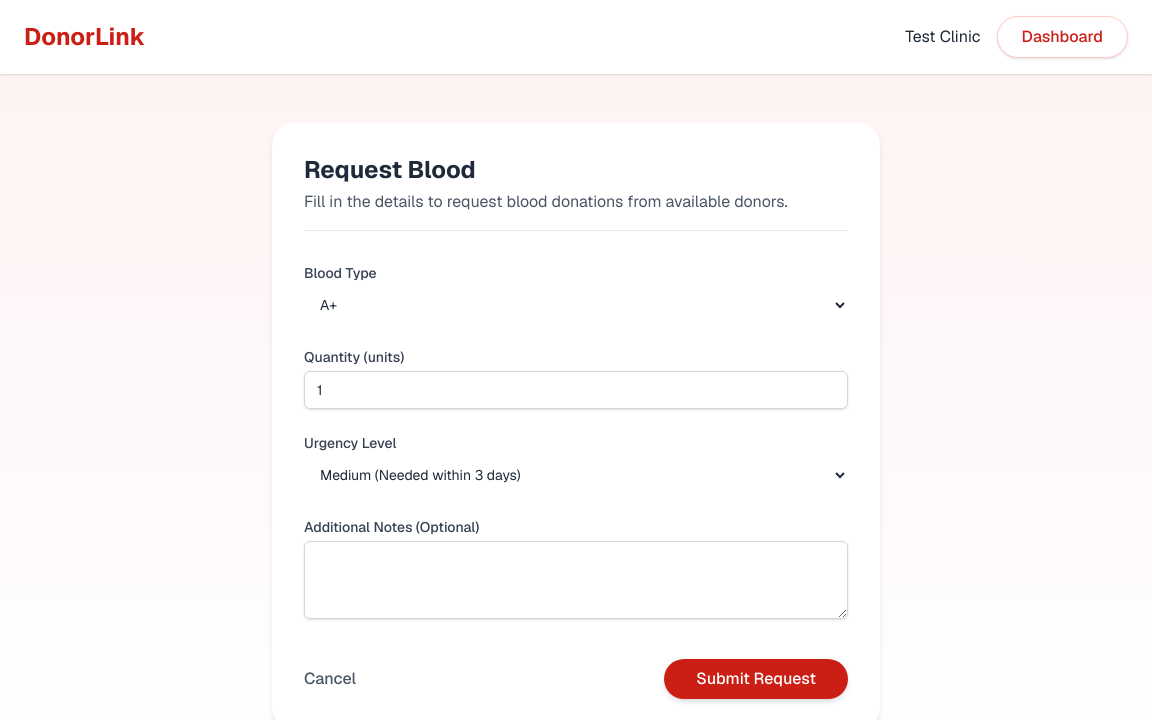
Scenario: Blood Request Flow Integration › Clinic Request Flow › handles invalid response format correctly
The image size is (1152, 720).
# Fill in the form
Select "B+" in the dropdown labelled "Blood Type" at [576, 305], box top-left (304, 287), bottom-right (848, 323)
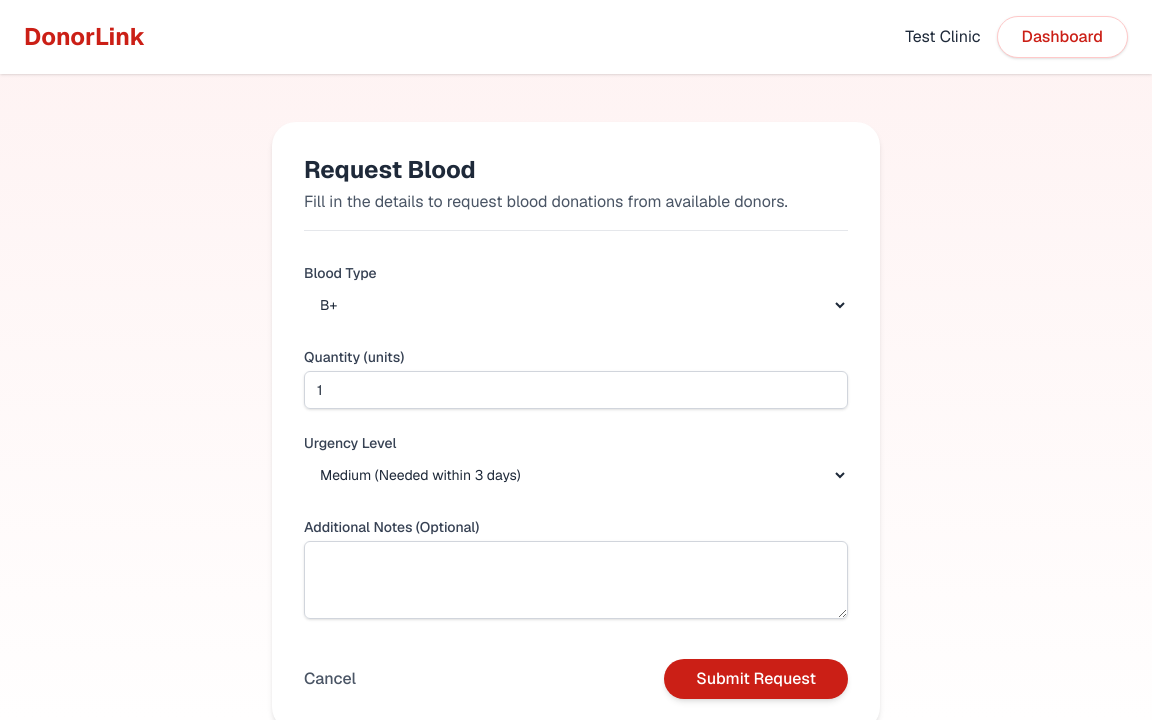
Replace the text in the number field labelled "Quantity (units)" with "3" at [576, 390], box top-left (304, 371), bottom-right (848, 409)
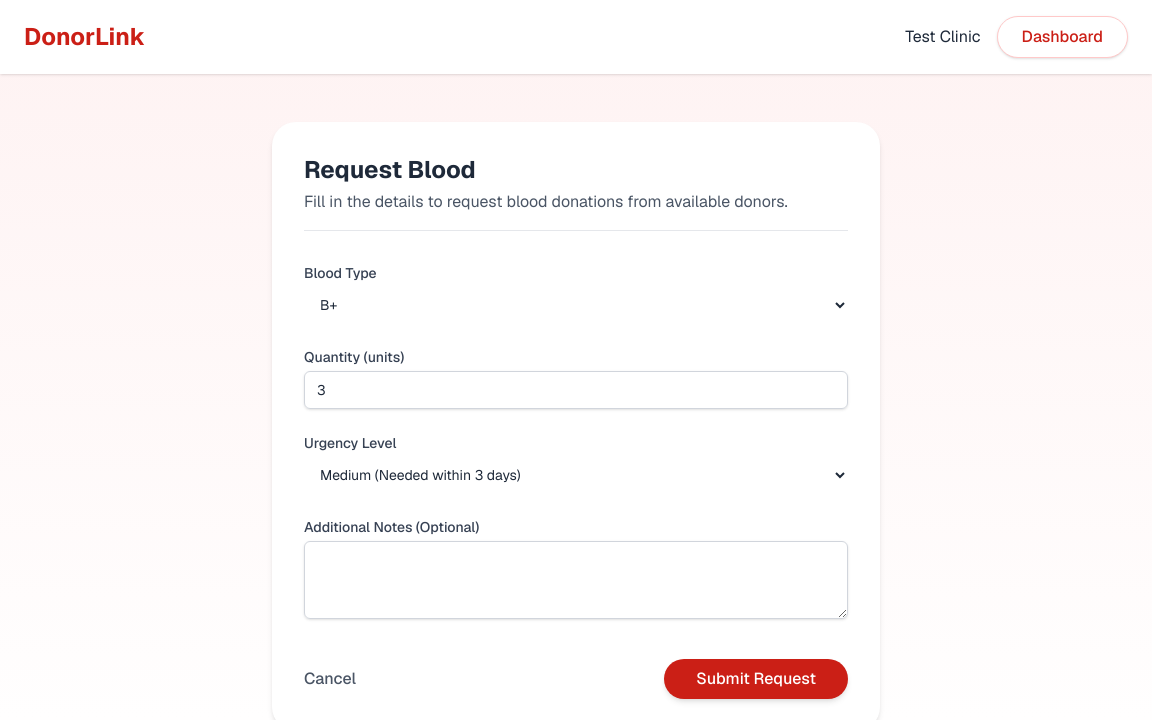
Select "High (Needed within 24 hours)" in the dropdown labelled "Urgency Level" at [576, 475], box top-left (304, 457), bottom-right (848, 493)
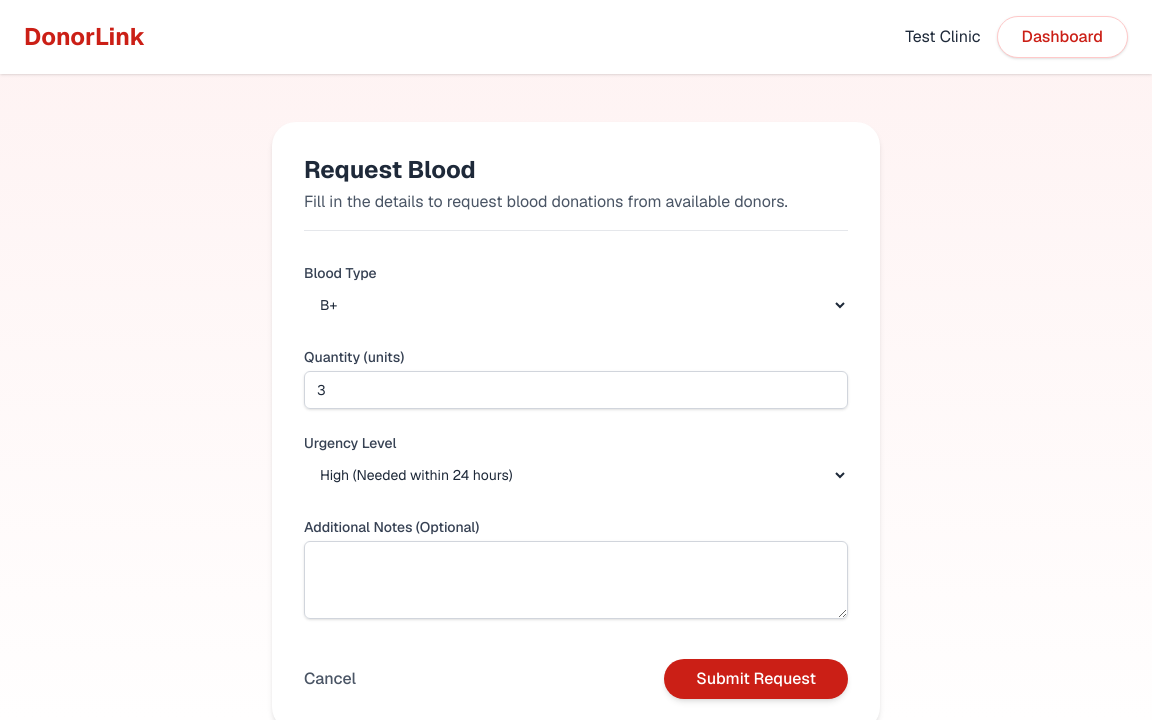
Type "Emergency need" into the text box labelled "Additional Notes (Optional)" at [576, 580], box top-left (304, 541), bottom-right (848, 619)
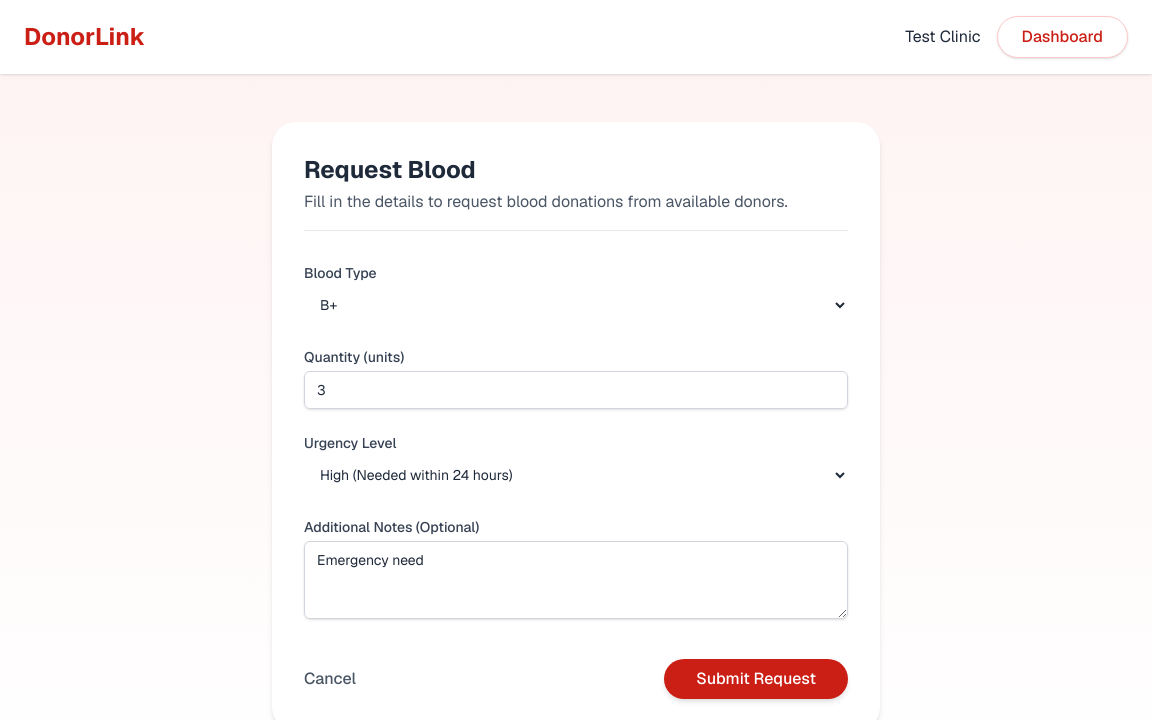
# Submit the form
Click the button "Submit Request" at [756, 679], box top-left (664, 659), bottom-right (848, 699)
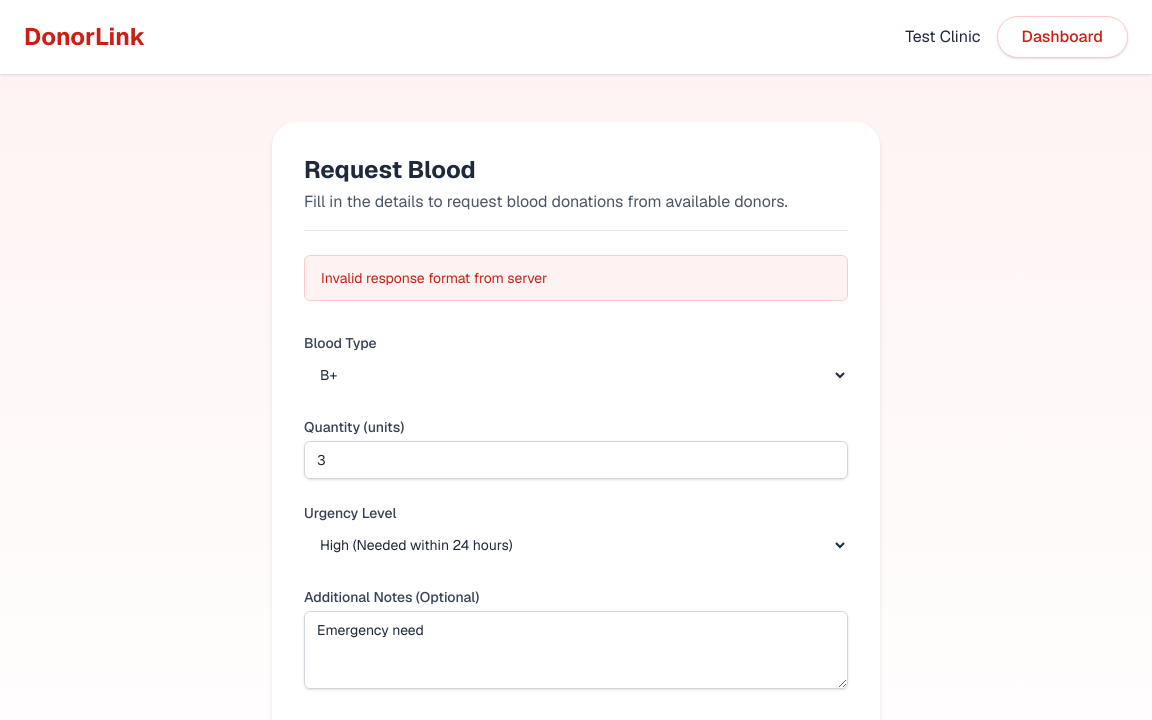
Expected: the text "Invalid response format from server" is shown, top-left (304, 255), bottom-right (848, 301)
